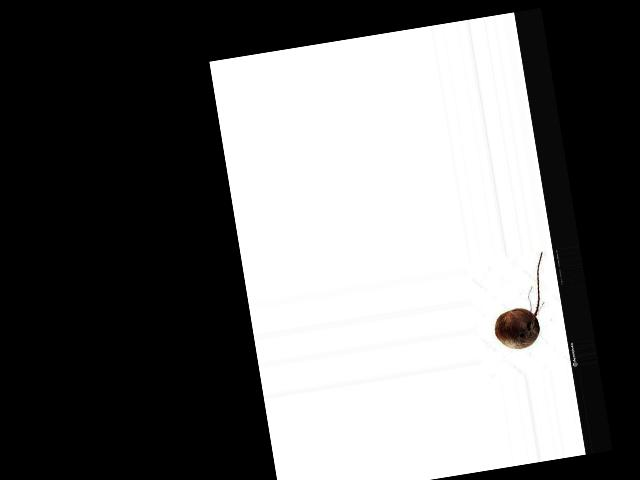beet: (484, 251, 557, 351)
